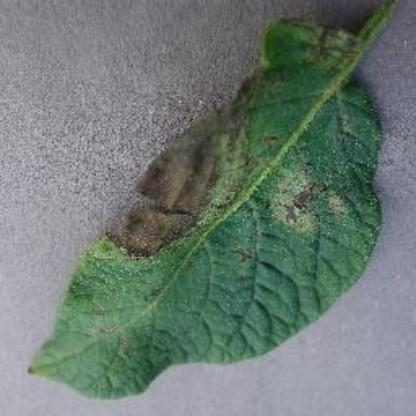Late-Blight: (20, 4, 396, 376)
